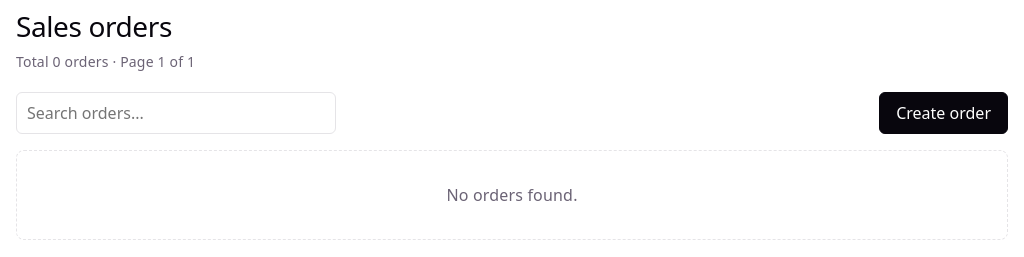
Test case: OrdersPage › shows an empty state when nothing matches the search
This screenshot has width=1024, height=257.
Check: the text "No orders found." is shown, box [16, 150, 1008, 240]
Type "nobody" into the search field labelled "Search orders" at coordinates (176, 113), box [16, 92, 336, 134]
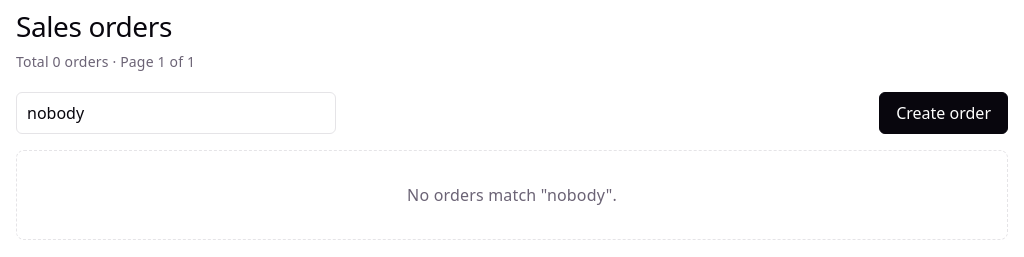
Check: the text "No orders match \"nobody\"." is shown, box [16, 150, 1008, 240]
